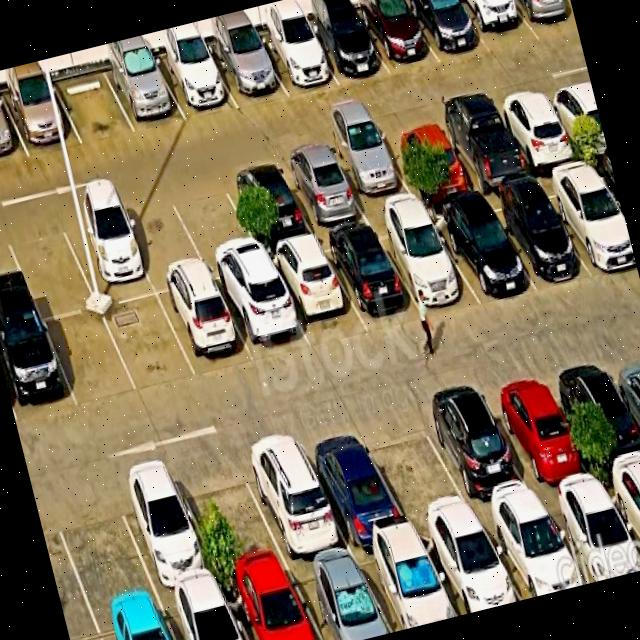empty: (171, 450, 287, 581), (46, 477, 156, 614), (356, 405, 476, 530), (167, 176, 266, 280), (116, 192, 211, 293), (3, 217, 97, 319), (101, 294, 197, 393), (44, 309, 137, 408), (52, 68, 135, 144)
occupied: (414, 386, 540, 518), (234, 429, 350, 564), (479, 371, 599, 501), (108, 463, 221, 596), (295, 420, 411, 548), (550, 354, 640, 483), (427, 201, 536, 305), (264, 239, 367, 349), (479, 186, 588, 289), (319, 226, 423, 331), (373, 214, 480, 314), (536, 166, 635, 273), (57, 204, 155, 307), (353, 535, 457, 632), (481, 503, 586, 599), (418, 522, 521, 615), (157, 281, 254, 378), (542, 488, 640, 583), (286, 553, 392, 640), (214, 269, 311, 362), (434, 108, 532, 193), (0, 317, 77, 424), (221, 162, 314, 250), (276, 149, 368, 234), (326, 137, 419, 218), (381, 122, 475, 202), (492, 92, 582, 173), (222, 568, 321, 640), (303, 10, 389, 85), (354, 0, 439, 75), (153, 48, 238, 121), (103, 58, 186, 132), (1, 81, 81, 157), (254, 25, 338, 95), (208, 37, 287, 107), (404, 0, 490, 62), (542, 80, 608, 158), (160, 583, 246, 640), (455, 0, 539, 54), (94, 599, 175, 640), (602, 345, 640, 422), (604, 475, 640, 549), (511, 0, 577, 39), (0, 93, 28, 163)
